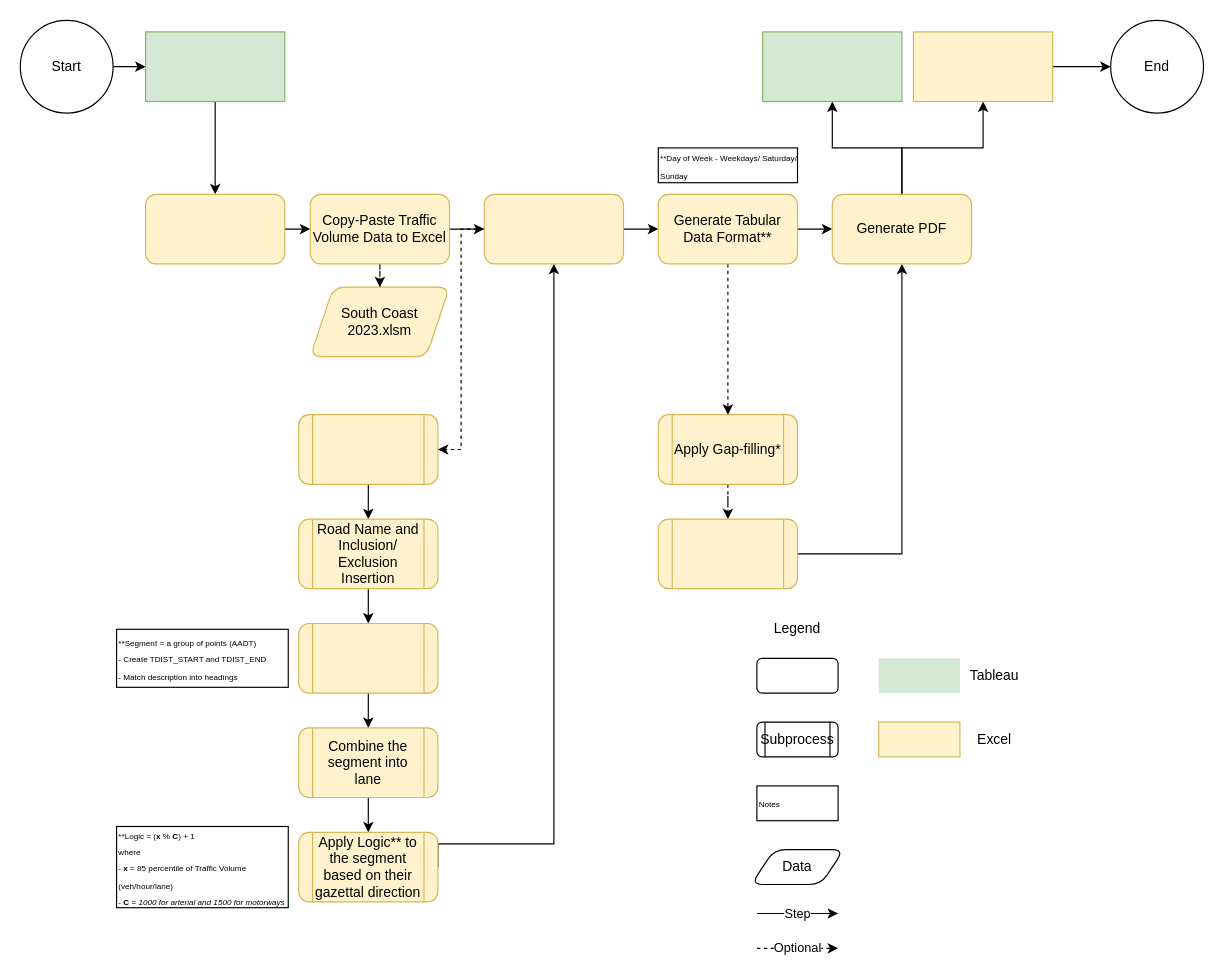
This 1224x978 diagram has some shape labels left out. Each missing label, with the centre of its shape:
Data Transformation: pixel 553 228
Fetch on new "traffic" year AADT annually: pixel 214 228
General Access Time PDF: pixel 982 66
Generate a segment** into Headings: pixel 368 657
Overriding inclusion and exclusion lanes: pixel 727 553
Process: pixel 797 675
Sites, Road Mapping: pixel 368 449
Tableau Data Visualizer: pixel 832 66
Tableau Public AADT Server: pixel 214 66
